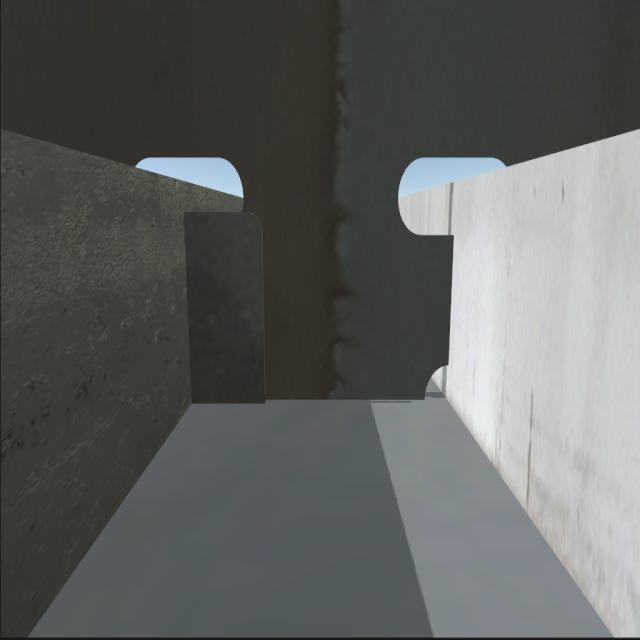fillet_hole: (420, 359, 448, 402)
fillet_yong_jeop_jang: (193, 396, 427, 406)
longi_yong_jeop_jang: (182, 212, 199, 402), (445, 233, 459, 366)
plate_CP05: (188, 215, 266, 404)
